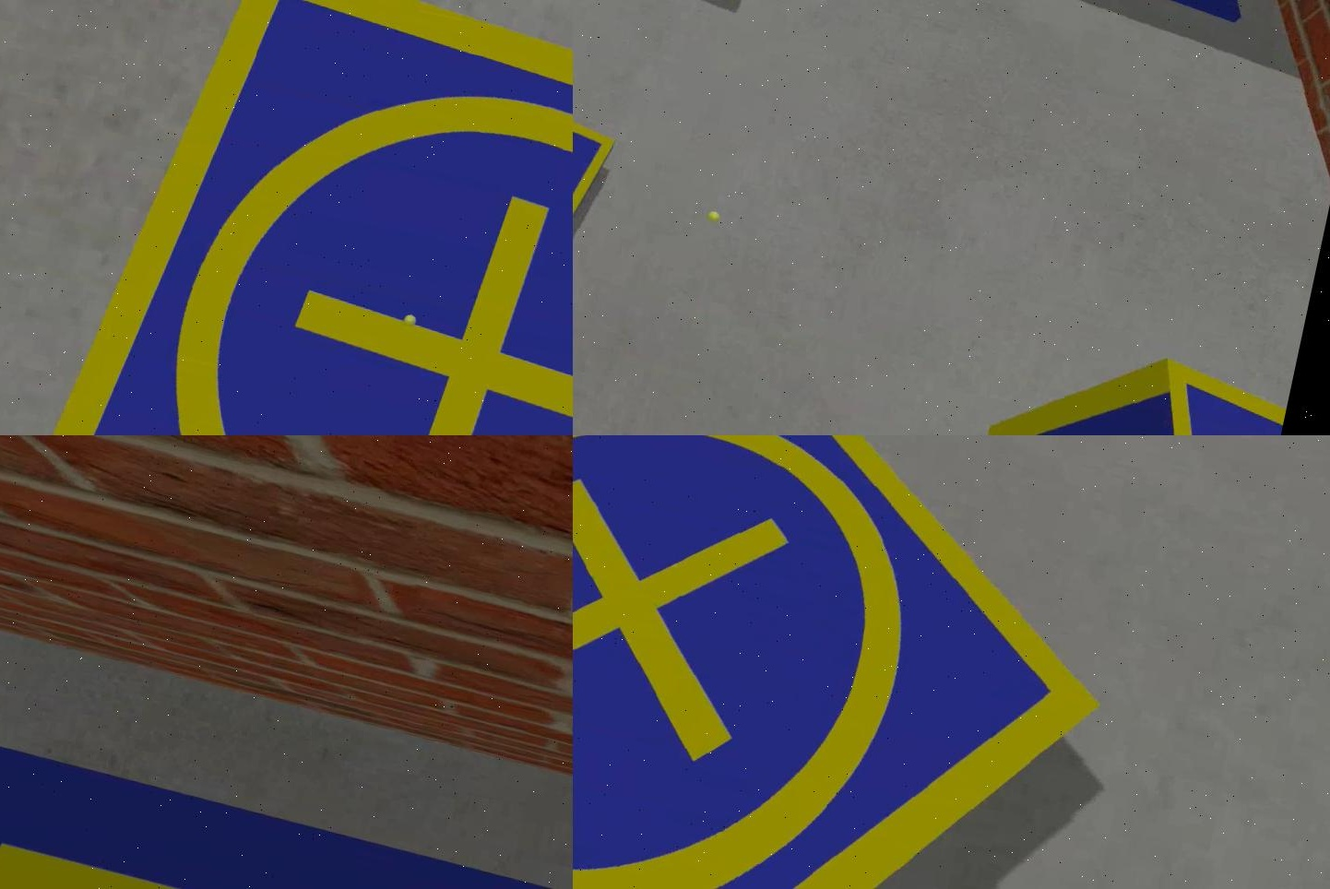large_base: (0, 721, 572, 889)
small_base: (572, 435, 1165, 889), (0, 1, 572, 435), (1115, 356, 1290, 435)
